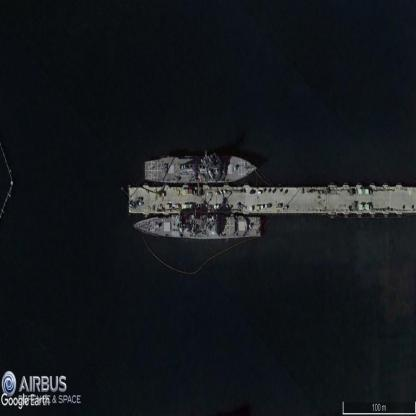ship: (145, 155, 257, 183), (133, 215, 261, 238)
